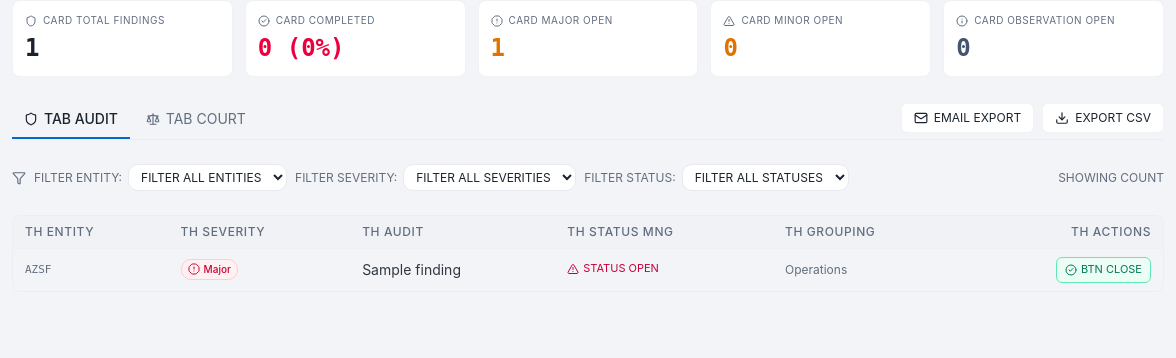
ComplianceHub close/reopen toggle › rolls back the optimistic flip + shows an error banner on PATCH failure
Click the button with test id "finding-toggle-AZSEKER-AZSF-0": [1103, 270] box [1056, 257, 1151, 283]
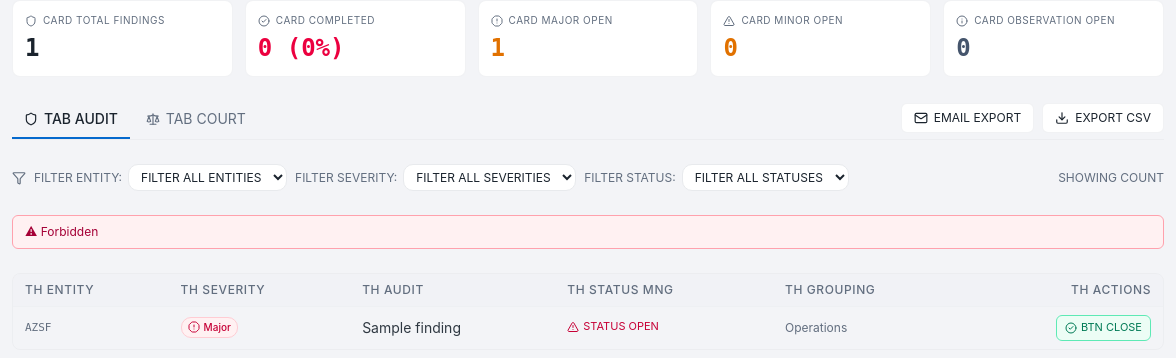
Check: the button with test id "finding-toggle-AZSEKER-AZSF-0" reads "BTN CLOSE", box [1056, 315, 1151, 341]
Check: the message shows "Forbidden", box [41, 224, 98, 239]
